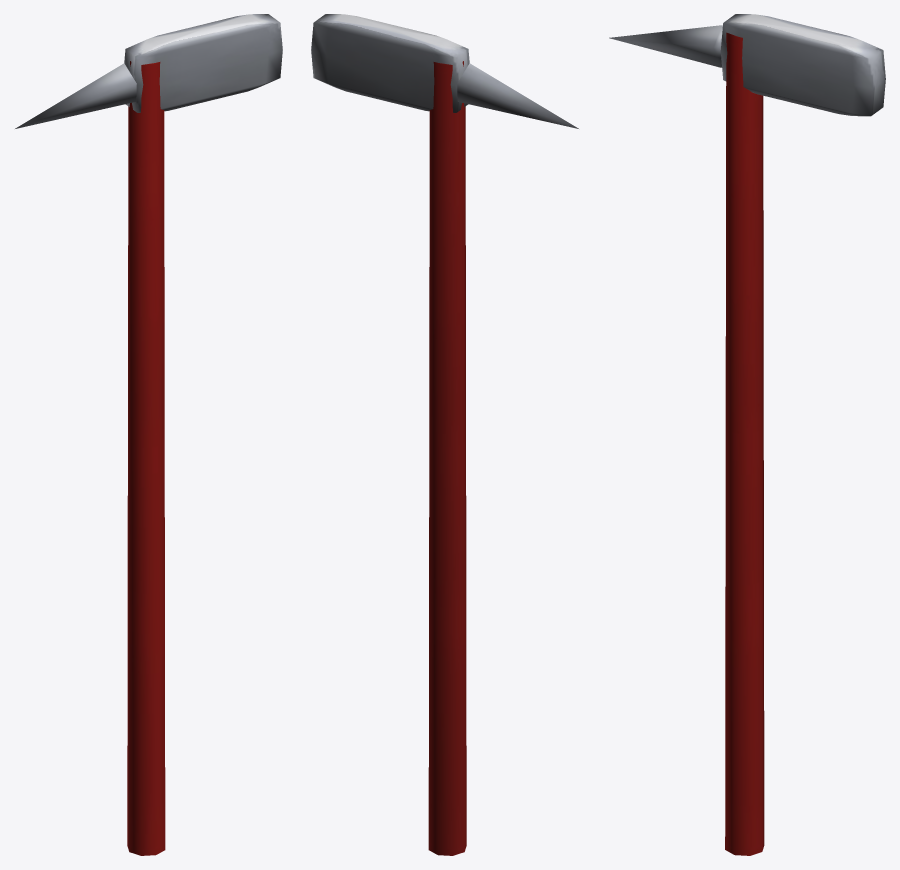
The model's file is hache-pompier.glb.
3 views of the same model, side by side, from view 1: azimuth 30°, elevation 25°; view 2: azimuth 150°, elevation 25°; view 3: azimuth 330°, elevation 25° (orthographic). The views are drawn at different scales.
Parts seen in each view (by area): view 1: hache-pompier; view 2: hache-pompier; view 3: hache-pompier.
Part boxes in pixels (x1,y1,x2,y2): hache-pompier: [15, 14, 282, 855]; hache-pompier: [311, 14, 578, 855]; hache-pompier: [609, 14, 885, 855].
Bounding box in the file's own units: 0.2781 × 0.815 × 0.038.
Materials: 1 (1 with a texture image).
